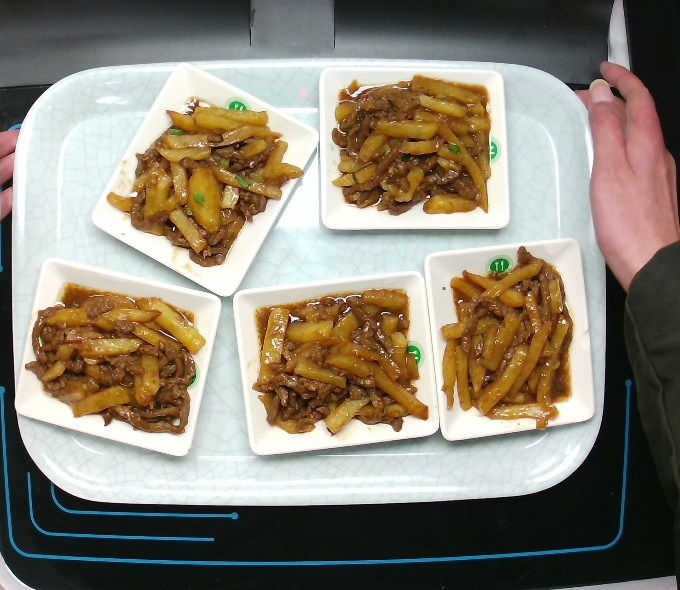wcq-TuDouNiuRou: (112, 80, 301, 278), (27, 269, 219, 446), (429, 237, 582, 435), (252, 280, 432, 443), (318, 68, 497, 219)
